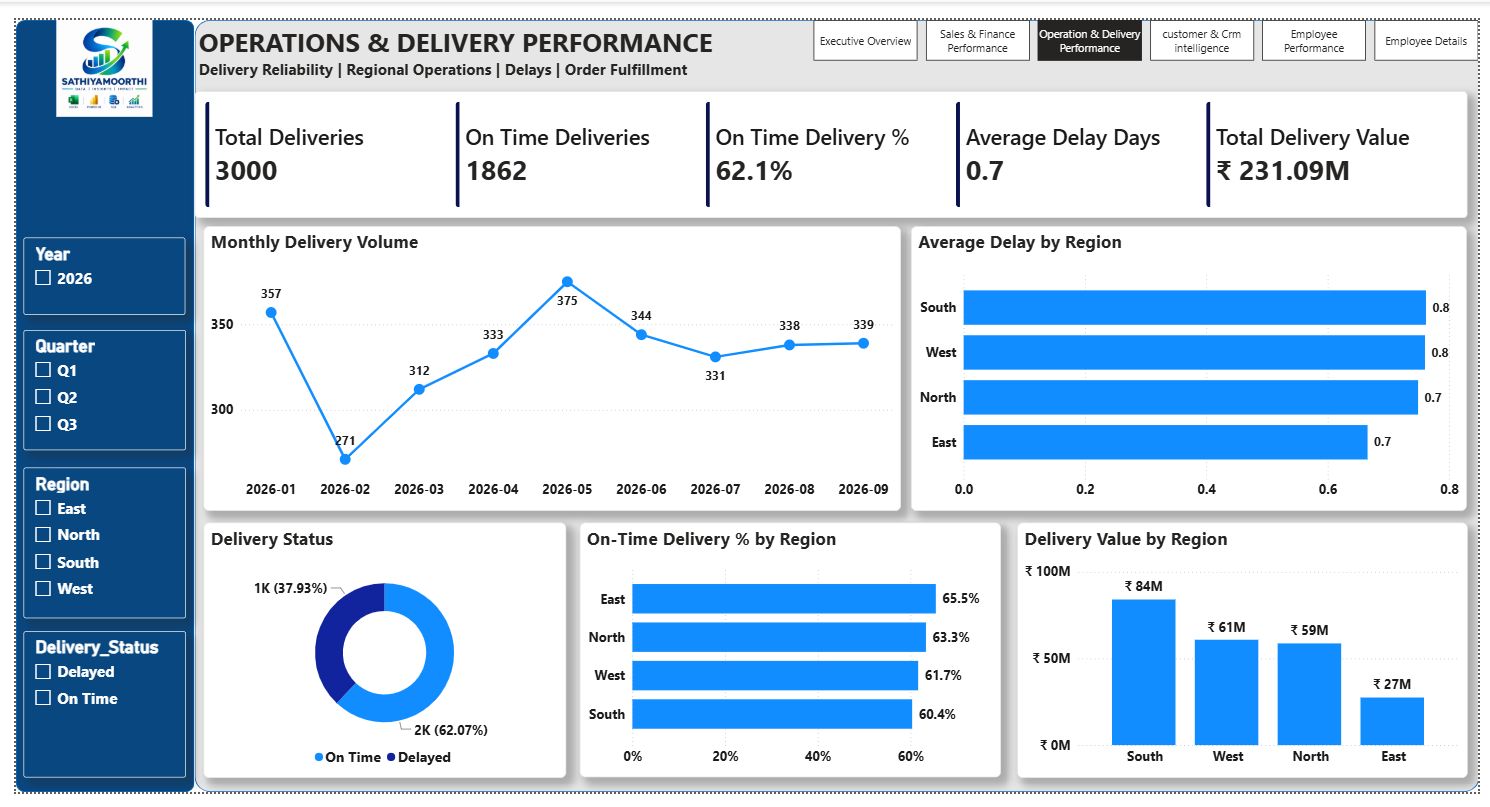

Layout of this report page (visuals, bound fields, positions):
{"tool":"powerbi","page":{"name":"Operation & Delivery Performance","canvas":[1800,950],"ordinal":2},"visuals":[{"type":"shape","box":[0,0,219.4,950.3],"z":0},{"type":"shape","box":[219.4,0,1581.2,950.3],"z":1000},{"type":"textbox","box":[219.4,0,1581.2,87.1],"z":2000},{"type":"cardVisual","fields":{"Data":["Measure.Total Deliveries","Measure.On Time Deliveries","Measure.On Time Delivery %","Measure.Average Delay Days","Measure.Total Delivery Value"]},"box":[220,88,1566,156],"z":3000},{"type":"lineChart","title":"Monthly Delivery Volume","fields":{"Category":["DimDate.Year_Month"],"Y":["Measure.Total Deliveries"]},"box":[230,254,858,350],"z":4000},{"type":"clusteredBarChart","title":"Average Delay by Region","fields":{"Y":["Measure.Average Delay Days"],"Category":["DimRegion.Region"]},"box":[1102,254,684,350],"z":5000},{"type":"donutChart","title":"Delivery Status","fields":{"Category":["FactDelivery.Delivery_Status"],"Y":["Measure.Total Deliveries"]},"box":[230,618,446,314],"z":6000},{"type":"clusteredBarChart","title":"On-Time Delivery % by Region","fields":{"Category":["DimRegion.Region"],"Y":["Measure.On Time Delivery %"]},"box":[693.3,618.3,518.3,313.3],"z":7000},{"type":"slicer","fields":{"Values":["DimDate.Year"]},"box":[9.8,268.2,199.5,94.8],"z":8000},{"type":"slicer","fields":{"Values":["DimDate.Quarter"]},"box":[9,381.7,199.8,147.6],"z":9000},{"type":"slicer","fields":{"Values":["DimRegion.Region"]},"box":[9,550.9,199.8,185.4],"z":10000},{"type":"slicer","fields":{"Values":["FactDelivery.Delivery_Status"]},"box":[9,752.6,199.8,180],"z":11000},{"type":"image","box":[0,0,217.8,118.8],"z":12000},{"type":"clusteredColumnChart","title":"Delivery Value by Region","fields":{"Category":["DimRegion.Region"],"Y":["Measure.Total Delivery Value"]},"box":[1232,618,554,314],"z":13000},{"type":"pageNavigator","box":[982,0,818,50],"z":14000}]}

Visuals, with their boxes in screenshot pixels (x1, y1, x2, y2), scaled from the page's 1800x950 canvas onto the 1490x807 screenshot:
shape: 0/0/182/806
shape: 182/0/1489/806
textbox: 182/0/1489/74
cardVisual - Measure.Total Deliveries x Measure.On Time Deliveries: 182/75/1478/207
"Monthly Delivery Volume" lineChart: 190/216/901/513
"Average Delay by Region" clusteredBarChart: 912/216/1478/513
"Delivery Status" donutChart: 190/525/560/792
"On-Time Delivery % by Region" clusteredBarChart: 574/525/1003/791
slicer - DimDate.Year: 8/228/173/308
slicer - DimDate.Quarter: 7/324/173/450
slicer - DimRegion.Region: 7/468/173/625
slicer - FactDelivery.Delivery_Status: 7/639/173/792
image: 0/0/180/101
"Delivery Value by Region" clusteredColumnChart: 1020/525/1478/792
pageNavigator: 813/0/1489/42
